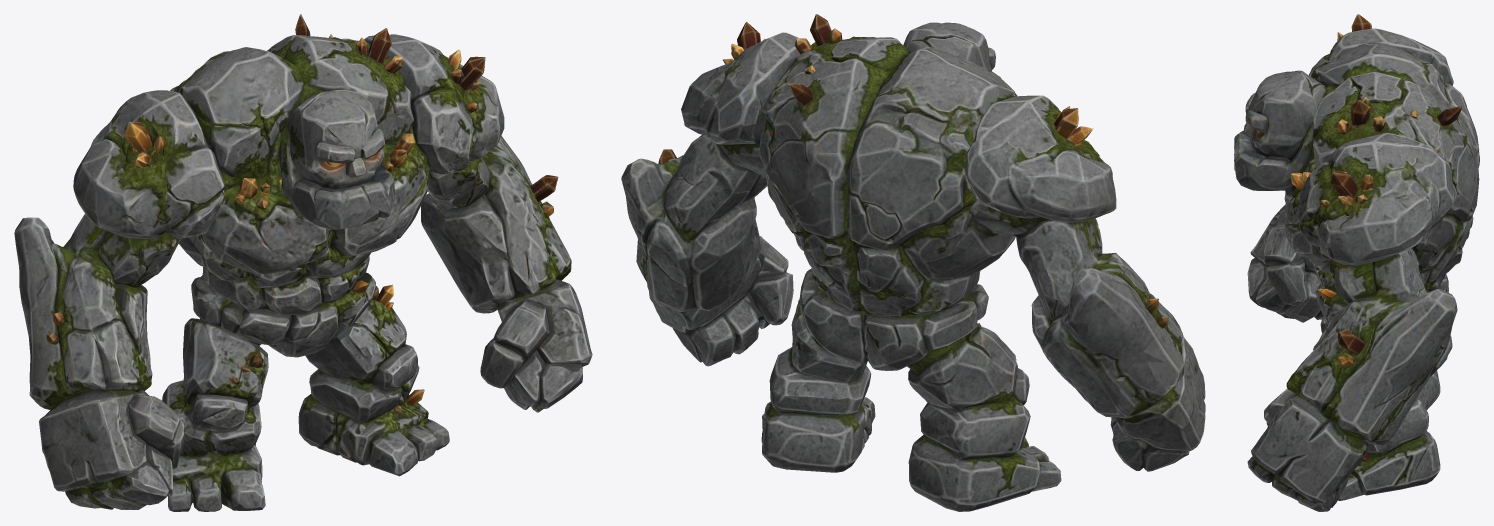
File: stoneborn.glb
3 renders of one model, left to right at view 1: azimuth 30°, elevation 25°; view 2: azimuth 150°, elevation 25°; view 3: azimuth 270°, elevation 25°, orthographic. The views are drawn at different scales.
Visible parts, largest first — view 1: Mesh_0; view 2: Mesh_0; view 3: Mesh_0.
Boxes of the visible parts, left/top/right/bottom form: Mesh_0: left=14, top=14, right=592, bottom=511; Mesh_0: left=621, top=14, right=1205, bottom=511; Mesh_0: left=1234, top=14, right=1479, bottom=511.
Bounding box in the file's own units: 1.9 × 1.43 × 0.8371.
1 material, 1 textured.
